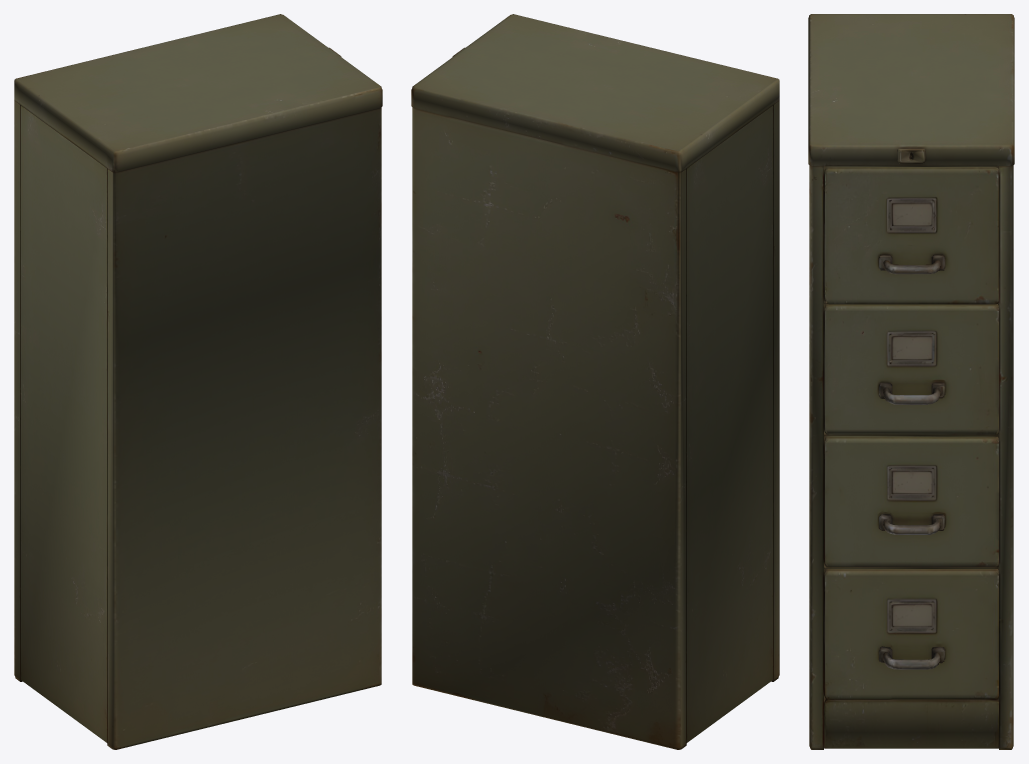
File: furniture-medical-file-cabinet.glb
3 views of the same model, side by side, from view 1: azimuth 30°, elevation 25°; view 2: azimuth 150°, elevation 25°; view 3: azimuth 270°, elevation 25° (orthographic).
Visible parts, largest first — view 1: tripo_node_a568f79c-ac58-46c6-b6af-c600f33fbb7d; view 2: tripo_node_a568f79c-ac58-46c6-b6af-c600f33fbb7d; view 3: tripo_node_a568f79c-ac58-46c6-b6af-c600f33fbb7d.
Part boxes in pixels (left/top/right/bottom): tripo_node_a568f79c-ac58-46c6-b6af-c600f33fbb7d: left=14, top=14, right=382, bottom=749; tripo_node_a568f79c-ac58-46c6-b6af-c600f33fbb7d: left=411, top=14, right=779, bottom=749; tripo_node_a568f79c-ac58-46c6-b6af-c600f33fbb7d: left=808, top=14, right=1014, bottom=749.
Size of the model in its own units: 1.1 by 2.1 by 0.65.
1 material, 1 textured.
